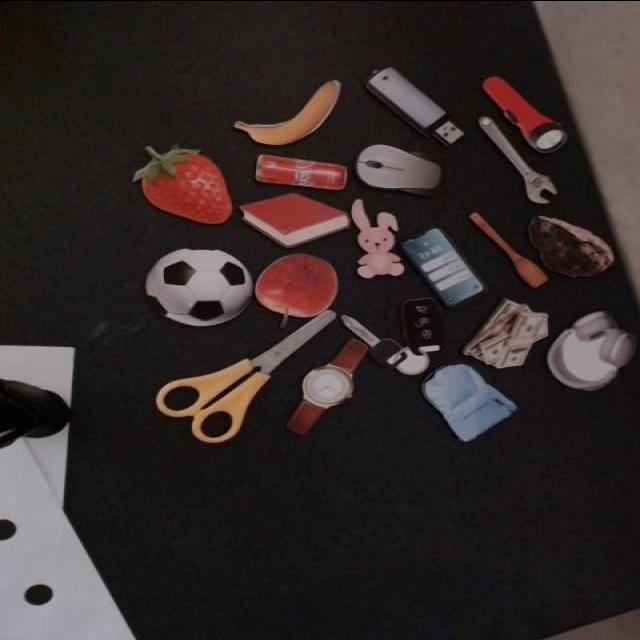Other Objects: (156, 309, 337, 443), (265, 335, 391, 439), (343, 294, 464, 385), (529, 305, 640, 399), (406, 355, 520, 443), (233, 80, 362, 156), (361, 64, 470, 149), (468, 72, 576, 156), (473, 109, 563, 207), (145, 247, 255, 326), (463, 296, 559, 376), (459, 211, 551, 289), (400, 227, 488, 308), (346, 138, 449, 205), (255, 252, 340, 328), (528, 215, 616, 278), (351, 198, 407, 279), (255, 153, 349, 190)
